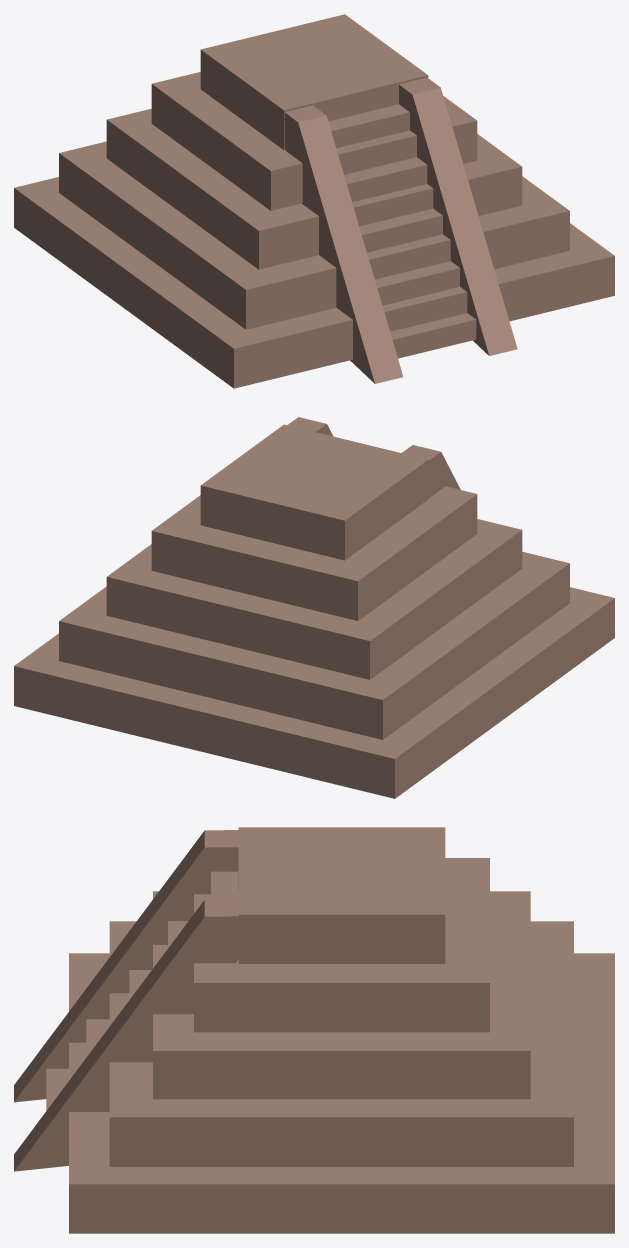
The picture shows the model from 3 angles, top to bottom: view 1: azimuth 30°, elevation 25°; view 2: azimuth 150°, elevation 25°; view 3: azimuth 270°, elevation 25°; orthographic projection. The views are drawn at different scales.
Parts seen in each view (by area): view 1: Pyramid_mesh; view 2: Pyramid_mesh; view 3: Pyramid_mesh.
Boxes of the visible parts, left/top/right/bottom form: Pyramid_mesh: left=14, top=14, right=614, bottom=388; Pyramid_mesh: left=14, top=417, right=614, bottom=798; Pyramid_mesh: left=14, top=827, right=614, bottom=1233.
Size of the model in its own units: 1000 by 521 by 1100.
